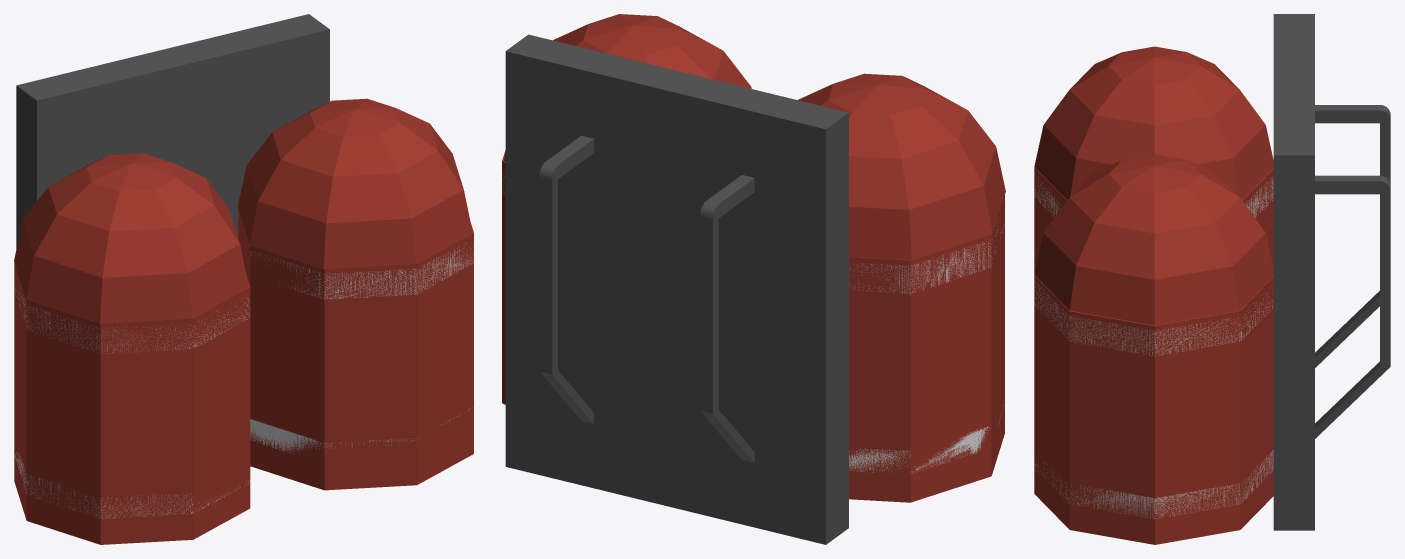
The model's file is jetpack.fbx.
3 views of the same model, side by side, from view 1: azimuth 30°, elevation 25°; view 2: azimuth 150°, elevation 25°; view 3: azimuth 270°, elevation 25° (orthographic). The views are drawn at different scales.
Visible parts, largest first — view 1: Cube; view 2: Cube; view 3: Cube.
Part boxes in pixels (x1=…): Cube: x1=14, y1=14, x2=473, y2=544; Cube: x1=502, y1=14, x2=1005, y2=544; Cube: x1=1034, y1=14, x2=1390, y2=544.
Bounding box in the file's own units: 199 × 166 × 143.
